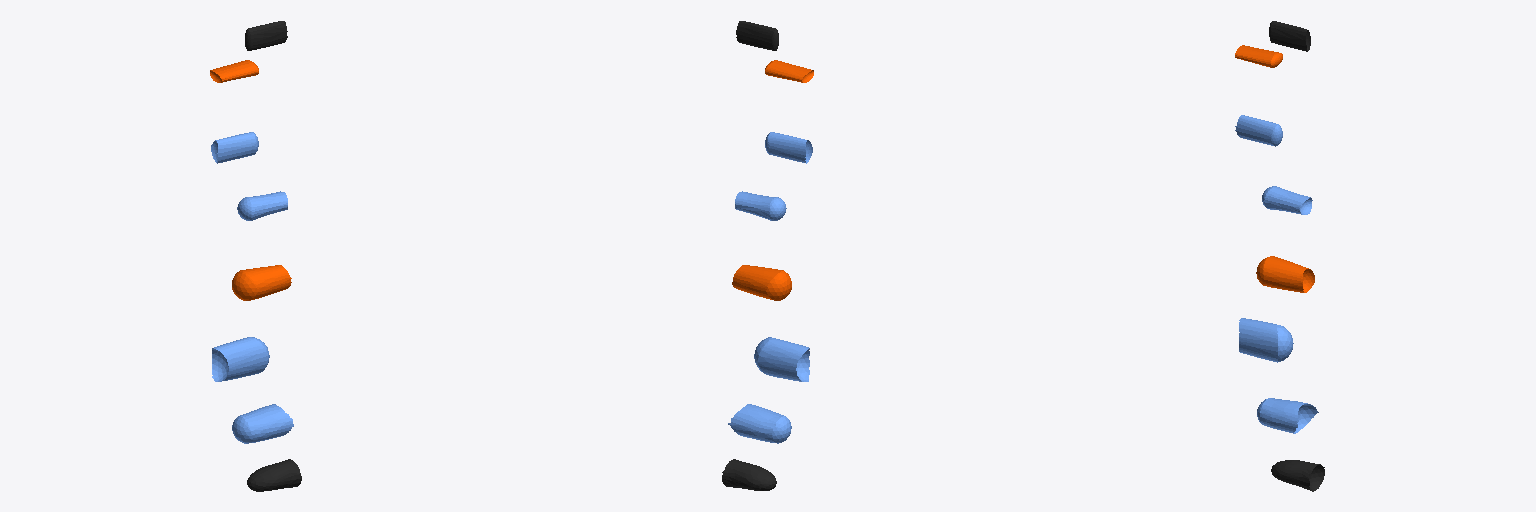
URDF robot description (lbr_iiwa):
<?xml version="1.0" ?>
<!-- ======================================================================= -->
<!-- | This document was autogenerated by xacro from lbr_iiwa.urdf.xacro   | -->
<!-- | Original xacro: https://github.com/rtkg/lbr_iiwa/archive/master.zip | -->
<!-- | EDITING THIS FILE BY HAND IS NOT RECOMMENDED                        | -->
<!-- | Changes (kohlhoff):                                                 | -->
<!-- |   * Removed gazebo tags.                                            | -->
<!-- |   * Removed unused materials.                                       | -->
<!-- |   * Made mesh paths relative.                                       | -->
<!-- |   * Removed material fields from collision segments.                | -->
<!-- |   * Removed the self_collision_checking segment.                    | -->
<!-- |   * Removed transmission segments, since they didn't match the      | -->
<!-- |     convention, will have to added back later.                      | -->
<!-- ======================================================================= -->
<!--LICENSE:                                                                 -->
<!--Copyright (c) 2015, Robert Krug & Todor Stoyanov, AASS Research Center,  -->
<!--Orebro University, Sweden                                                -->
<!--All rights reserved.                                                     -->
<!--                                                                         -->
<!--Redistribution and use in source and binary forms, with or without       -->
<!--modification, are permitted provided that the following conditions are   -->
<!--met:                                                                     -->
<!--                                                                         -->
<!--1. Redistributions of source code must retain the above copyright notice,-->
<!--   this list of conditions and the following disclaimer.                 -->
<!--                                                                         -->
<!--2. Redistributions in binary form must reproduce the above copyright     -->
<!--   notice, this list of conditions and the following disclaimer in the   -->
<!--   documentation and/or other materials provided with the distribution.  -->
<!--                                                                         -->
<!--THIS SOFTWARE IS PROVIDED BY THE COPYRIGHT HOLDERS AND CONTRIBUTORS "AS  -->
<!--IS" AND ANY EXPRESS OR IMPLIED WARRANTIES, INCLUDING, BUT NOT LIMITED TO,-->
<!--THE IMPLIED WARRANTIES OF MERCHANTABILITY AND FITNESS FOR A PARTICULAR   -->
<!--PURPOSE ARE DISCLAIMED. IN NO EVENT SHALL THE COPYRIGHT HOLDER OR        -->
<!--CONTRIBUTORS BE LIABLE FOR ANY DIRECT, INDIRECT, INCIDENTAL, SPECIAL,    -->
<!--EXEMPLARY, OR CONSEQUENTIAL DAMAGES (INCLUDING, BUT NOT LIMITED TO,      -->
<!--PROCUREMENT OF SUBSTITUTE GOODS OR SERVICES; LOSS OF USE, DATA, OR       -->
<!--PROFITS; OR BUSINESS INTERRUPTION) HOWEVER CAUSED AND ON ANY THEORY OF   -->
<!--LIABILITY, WHETHER IN CONTRACT, STRICT LIABILITY, OR TORT (INCLUDING     -->
<!--NEGLIGENCE OR OTHERWISE) ARISING IN ANY WAY OUT OF THE USE OF THIS       -->
<!--SOFTWARE, EVEN IF ADVISED OF THE POSSIBILITY OF SUCH DAMAGE.             -->
<robot name="lbr_iiwa" xmlns:xacro="http://www.ros.org/wiki/xacro">
  <!-- Import Rviz colors -->
  <material name="Grey">
    <color rgba="0.2 0.2 0.2 1.0"/>
  </material>
  <material name="Orange">
    <color rgba="1.0 0.423529411765 0.0392156862745 1.0"/>
  </material>
  <material name="Blue">
  <color rgba="0.5 0.7 1.0 1.0"/>      
</material>

  <!--Import the lbr iiwa macro -->
  <!--Import Transmissions -->
  <!--Include Utilities -->
  <!--The following macros are adapted from the LWR 4 definitions of the RCPRG - https://github.com/RCPRG-ros-pkg/lwr_robot -->
  <!--Little helper macros to define the inertia matrix needed for links.-->
  <!--Cuboid-->
  <!--Cylinder: length is along the y-axis! -->
  <!--lbr-->
  <link name="lbr_iiwa_link_0">
    <inertial>
      <origin rpy="0 0 0" xyz="-0.1 0 0.07"/>
      <!--Increase mass from 5 Kg original to provide a stable base to carry the
          arm.-->
      <mass value="0.0"/>
      <inertia ixx="0.05" ixy="0" ixz="0" iyy="0.06" iyz="0" izz="0.03"/>
    </inertial>
    <visual>
      <origin rpy="0 0 0" xyz="0 0 0"/>
      <geometry>
        <mesh filename="meshes_iiwa/link_0.stl"/>
      </geometry>
      <material name="Grey"/>
    </visual>
    <collision>
      <origin rpy="0 0 0" xyz="0 0 0"/>
      <geometry>
        <mesh filename="meshes_iiwa/link_0.stl"/>
      </geometry>
    </collision>
  </link>
  <!-- joint between link_0 and link_1 -->
  <joint name="lbr_iiwa_joint_1" type="revolute">
    <parent link="lbr_iiwa_link_0"/>
    <child link="lbr_iiwa_link_1"/>
    <origin rpy="0 0 0" xyz="0 0 0.1575"/>
    <axis xyz="0 0 1"/>
    <limit effort="300" lower="-2.96705972839" upper="2.96705972839" velocity="10"/>
    <dynamics damping="0.5"/>
  </joint>
  <link name="lbr_iiwa_link_1">
    <inertial>
      <origin rpy="0 0 0" xyz="0 -0.03 0.12"/>
      <mass value="4"/>
      <inertia ixx="0.1" ixy="0" ixz="0" iyy="0.09" iyz="0" izz="0.02"/>
    </inertial>
    <visual>
      <origin rpy="0 0 0" xyz="0 0 0"/>
      <geometry>
        <mesh filename="meshes_iiwa/link_1.stl"/>
      </geometry>
      <material name="Blue"/>
    </visual>
    <collision>
      <origin rpy="0 0 0" xyz="0 0 0"/>
      <geometry>
        <mesh filename="meshes/link_1.stl"/>
      </geometry>
    </collision>
  </link>
  <!-- joint between link_1 and link_2 -->
  <joint name="lbr_iiwa_joint_2" type="revolute">
    <parent link="lbr_iiwa_link_1"/>
    <child link="lbr_iiwa_link_2"/>
    <origin rpy="1.57079632679   0 3.14159265359" xyz="0 0 0.2025"/>
    <axis xyz="0 0 1"/>
    <limit effort="300" lower="-2.09439510239" upper="2.09439510239" velocity="10"/>
    <dynamics damping="0.5"/>
  </joint>
  <link name="lbr_iiwa_link_2">
    <inertial>
      <origin rpy="0 0 0" xyz="0.0003 0.059 0.042"/>
      <mass value="4"/>
      <inertia ixx="0.05" ixy="0" ixz="0" iyy="0.018" iyz="0" izz="0.044"/>
    </inertial>
    <visual>
      <origin rpy="0 0 0" xyz="0 0 0"/>
      <geometry>
        <mesh filename="meshes_iiwa/link_2.stl"/>
      </geometry>
      <material name="Blue"/>
    </visual>
    <collision>
      <origin rpy="0 0 0" xyz="0 0 0"/>
      <geometry>
        <mesh filename="meshes/link_2.stl"/>
      </geometry>
    </collision>
  </link>
  <!-- joint between link_2 and link_3 -->
  <joint name="lbr_iiwa_joint_3" type="revolute">
    <parent link="lbr_iiwa_link_2"/>
    <child link="lbr_iiwa_link_3"/>
    <origin rpy="1.57079632679 0 3.14159265359" xyz="0 0.2045 0"/>
    <axis xyz="0 0 1"/>
    <limit effort="300" lower="-2.96705972839" upper="2.96705972839" velocity="10"/>
    <dynamics damping="0.5"/>
  </joint>
  <link name="lbr_iiwa_link_3">
    <inertial>
      <origin rpy="0 0 0" xyz="0 0.03 0.13"/>
      <mass value="3"/>
      <inertia ixx="0.08" ixy="0" ixz="0" iyy="0.075" iyz="0" izz="0.01"/>
    </inertial>
    <visual>
      <origin rpy="0 0 0" xyz="0 0 0"/>
      <geometry>
        <mesh filename="meshes_iiwa/link_3.stl"/>
      </geometry>
      <material name="Orange"/>
    </visual>
    <collision>
      <origin rpy="0 0 0" xyz="0 0 0"/>
      <geometry>
        <mesh filename="meshes_iiwa/link_3.stl"/>
      </geometry>
    </collision>
  </link>
  <!-- joint between link_3 and link_4 -->
  <joint name="lbr_iiwa_joint_4" type="revolute">
    <parent link="lbr_iiwa_link_3"/>
    <child link="lbr_iiwa_link_4"/>
    <origin rpy="1.57079632679 0 0" xyz="0 0 0.2155"/>
    <axis xyz="0 0 1"/>
    <limit effort="300" lower="-2.09439510239" upper="2.09439510239" velocity="10"/>
    <dynamics damping="0.5"/>
  </joint>
  <link name="lbr_iiwa_link_4">
    <inertial>
      <origin rpy="0 0 0" xyz="0 0.067 0.034"/>
      <mass value="2.7"/>
      <inertia ixx="0.03" ixy="0" ixz="0" iyy="0.01" iyz="0" izz="0.029"/>
    </inertial>
    <visual>
      <origin rpy="0 0 0" xyz="0 0 0"/>
      <geometry>
        <mesh filename="meshes_iiwa/link_4.stl"/>
      </geometry>
      <material name="Blue"/>
    </visual>
    <collision>
      <origin rpy="0 0 0" xyz="0 0 0"/>
      <geometry>
        <mesh filename="meshes_iiwa/link_4.stl"/>
      </geometry>
    </collision>
  </link>
  <!-- joint between link_4 and link_5 -->
  <joint name="lbr_iiwa_joint_5" type="revolute">
    <parent link="lbr_iiwa_link_4"/>
    <child link="lbr_iiwa_link_5"/>
    <origin rpy="-1.57079632679 3.14159265359 0" xyz="0 0.1845 0"/>
    <axis xyz="0 0 1"/>
    <limit effort="300" lower="-2.96705972839" upper="2.96705972839" velocity="10"/>
    <dynamics damping="0.5"/>
  </joint>
  <link name="lbr_iiwa_link_5">
    <inertial>
      <origin rpy="0 0 0" xyz="0.0001 0.021 0.076"/>
      <mass value="1.7"/>
      <inertia ixx="0.02" ixy="0" ixz="0" iyy="0.018" iyz="0" izz="0.005"/>
    </inertial>
    <visual>
      <origin rpy="0 0 0" xyz="0 0 0"/>
      <geometry>
        <mesh filename="meshes_iiwa/link_5.stl"/>
      </geometry>
      <material name="Blue"/>
    </visual>
    <collision>
      <origin rpy="0 0 0" xyz="0 0 0"/>
      <geometry>
        <mesh filename="meshes_iiwa/link_5.stl"/>
      </geometry>
    </collision>
  </link>
  <!-- joint between link_5 and link_6 -->
  <joint name="lbr_iiwa_joint_6" type="revolute">
    <parent link="lbr_iiwa_link_5"/>
    <child link="lbr_iiwa_link_6"/>
    <origin rpy="1.57079632679 0 0" xyz="0 0 0.2155"/>
    <axis xyz="0 0 1"/>
    <limit effort="300" lower="-2.09439510239" upper="2.09439510239" velocity="10"/>
    <dynamics damping="0.5"/>
  </joint>
  <link name="lbr_iiwa_link_6">
    <inertial>
      <origin rpy="0 0 0" xyz="0 0.0006 0.0004"/>
      <mass value="1.8"/>
      <inertia ixx="0.005" ixy="0" ixz="0" iyy="0.0036" iyz="0" izz="0.0047"/>
    </inertial>
    <visual>
      <origin rpy="0 0 0" xyz="0 0 0"/>
      <geometry>
        <mesh filename="meshes_iiwa/link_6.stl"/>
      </geometry>
      <material name="Orange"/>
    </visual>
    <collision>
      <origin rpy="0 0 0" xyz="0 0 0"/>
      <geometry>
        <mesh filename="meshes_iiwa/link_6.stl"/>
      </geometry>
    </collision>
  </link>
  <!-- joint between link_6 and link_7 -->
  <joint name="lbr_iiwa_joint_7" type="revolute">
    <parent link="lbr_iiwa_link_6"/>
    <child link="lbr_iiwa_link_7"/>
    <origin rpy="-1.57079632679 3.14159265359 0" xyz="0 0.081 0"/>
    <axis xyz="0 0 1"/>
    <limit effort="300" lower="-3.05432619099" upper="3.05432619099" velocity="10"/>
    <dynamics damping="0.5"/>
  </joint>
  <link name="lbr_iiwa_link_7">
    <inertial>
      <origin rpy="0 0 0" xyz="0 0 0.02"/>
      <mass value="0.3"/>
      <inertia ixx="0.001" ixy="0" ixz="0" iyy="0.001" iyz="0" izz="0.001"/>
    </inertial>
    <visual>
      <origin rpy="0 0 0" xyz="0 0 0"/>
      <geometry>
        <mesh filename="meshes_iiwa/link_7.stl"/>
      </geometry>
      <material name="Grey"/>
    </visual>
    <collision>
      <origin rpy="0 0 0" xyz="0 0 0"/>
      <geometry>
        <mesh filename="meshes_iiwa/link_7.stl"/>
      </geometry>
    </collision>
  </link>
  
</robot>

--- Facts derived from the render (not from the file) ---
3 views of the same robot in one strip: view 1: azimuth 30°, elevation 25°; view 2: azimuth 150°, elevation 25°; view 3: azimuth 330°, elevation 25° (orthographic).
Robot: lbr_iiwa — 8 links, 7 joints (7 revolute); root link lbr_iiwa_link_0; default pose: every joint at zero.
Links seen in each view (by area): view 1: lbr_iiwa_link_2, lbr_iiwa_link_1, lbr_iiwa_link_3, lbr_iiwa_link_0, lbr_iiwa_link_5, lbr_iiwa_link_4, lbr_iiwa_link_7, lbr_iiwa_link_6; view 2: lbr_iiwa_link_2, lbr_iiwa_link_1, lbr_iiwa_link_3, lbr_iiwa_link_0, lbr_iiwa_link_5, lbr_iiwa_link_4, lbr_iiwa_link_7, lbr_iiwa_link_6; view 3: lbr_iiwa_link_2, lbr_iiwa_link_1, lbr_iiwa_link_3, lbr_iiwa_link_0, lbr_iiwa_link_5, lbr_iiwa_link_4, lbr_iiwa_link_7, lbr_iiwa_link_6.
Boxes of the visible links, x1,y1,x2,y2 form: lbr_iiwa_link_2: (212,337,269,381); lbr_iiwa_link_1: (232,404,293,443); lbr_iiwa_link_3: (232,265,291,300); lbr_iiwa_link_0: (247,459,301,491); lbr_iiwa_link_5: (211,132,258,163); lbr_iiwa_link_4: (237,191,287,220); lbr_iiwa_link_7: (245,21,287,50); lbr_iiwa_link_6: (210,60,258,82); lbr_iiwa_link_2: (754,337,809,381); lbr_iiwa_link_1: (728,404,791,443); lbr_iiwa_link_3: (732,265,791,300); lbr_iiwa_link_0: (722,459,776,490); lbr_iiwa_link_5: (765,132,812,163); lbr_iiwa_link_4: (735,191,786,220); lbr_iiwa_link_7: (736,21,778,50); lbr_iiwa_link_6: (765,60,813,82); lbr_iiwa_link_2: (1239,318,1293,362); lbr_iiwa_link_1: (1257,398,1318,433); lbr_iiwa_link_3: (1256,256,1314,292); lbr_iiwa_link_0: (1271,460,1324,491); lbr_iiwa_link_5: (1235,115,1282,146); lbr_iiwa_link_4: (1262,186,1312,214); lbr_iiwa_link_7: (1269,21,1310,51); lbr_iiwa_link_6: (1235,45,1282,67).
Size in the robot's own frame: 0.2396 by 0.1018 by 1.33 metres.
8 mesh visuals loaded from 8 distinct referenced files (8 binary STL).
